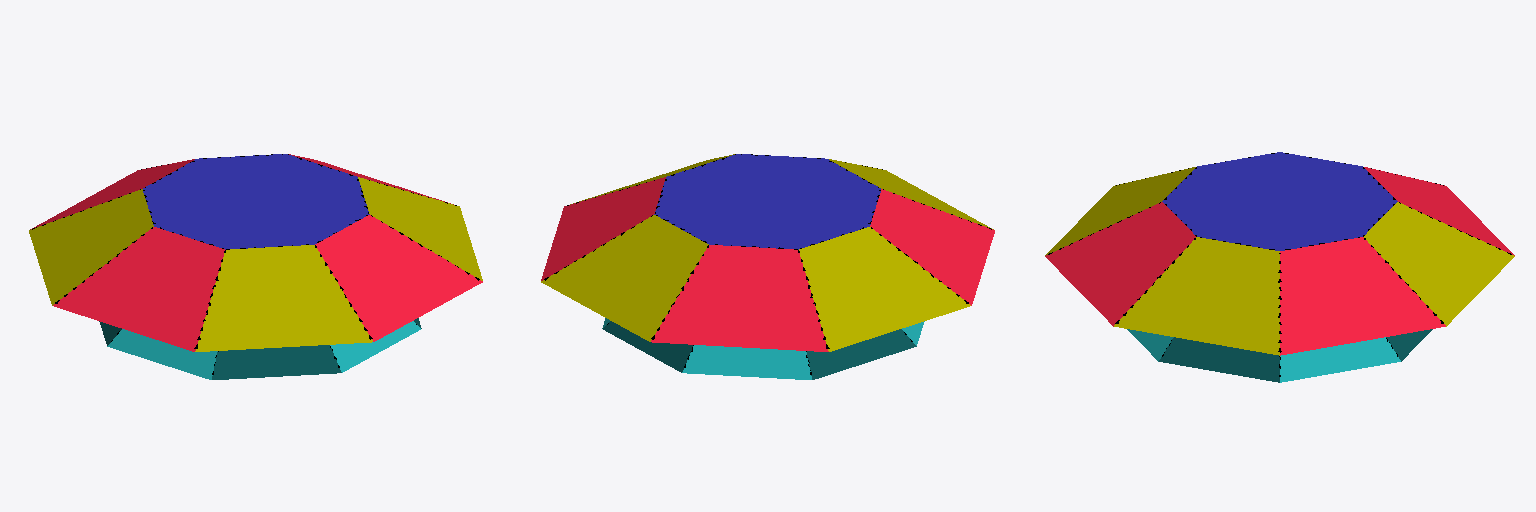
The picture shows the model from 3 angles: view 1: azimuth 30°, elevation 25°; view 2: azimuth 150°, elevation 25°; view 3: azimuth 270°, elevation 25°; orthographic projection.
Visible parts, largest first — view 1: Cylinder; view 2: Cylinder; view 3: Cylinder.
Part boxes in pixels (left/top/right/bottom): Cylinder: left=29, top=154, right=482, bottom=379; Cylinder: left=541, top=154, right=994, bottom=379; Cylinder: left=1045, top=152, right=1514, bottom=382.
Bounding box in the file's own units: 13.66 × 3.48 × 13.66.
Materials: 1 (1 with a texture image).